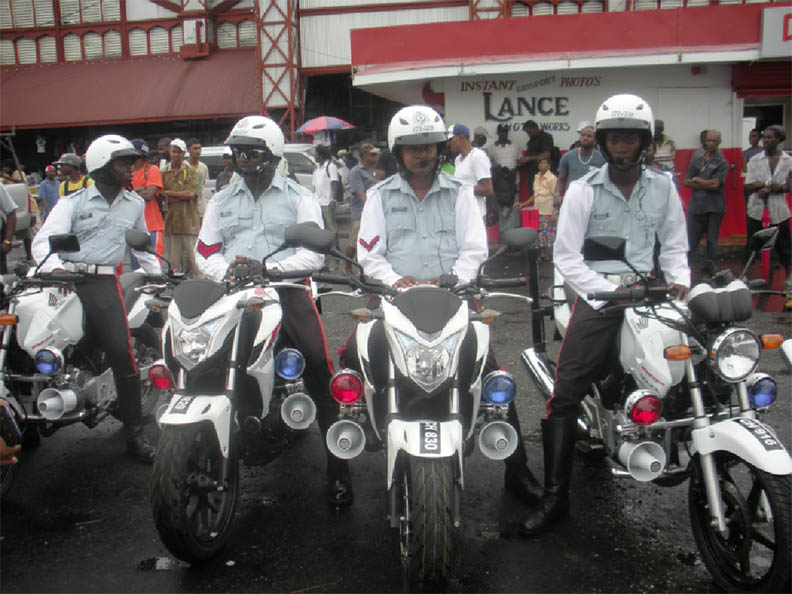helmet: (382, 102, 455, 182), (587, 97, 655, 177), (227, 113, 289, 188), (80, 131, 142, 195)
